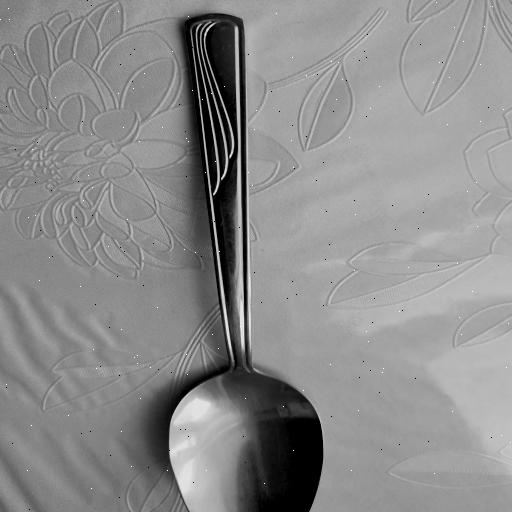spoon: (165, 15, 327, 512)
